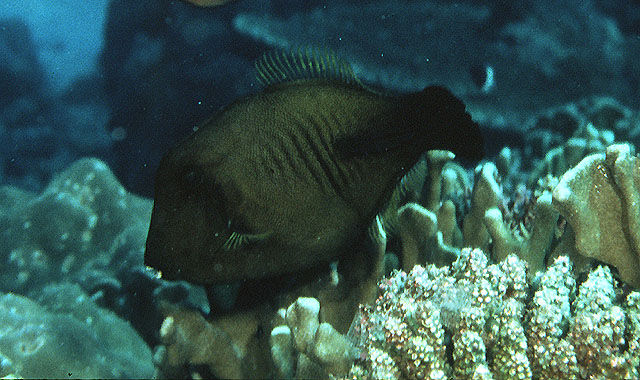fish: (144, 52, 479, 289)
